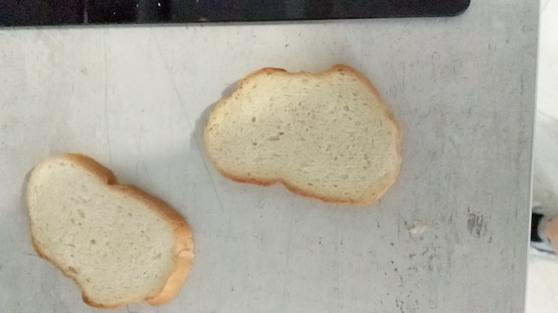white_bread: (202, 65, 402, 202), (25, 154, 193, 307)
